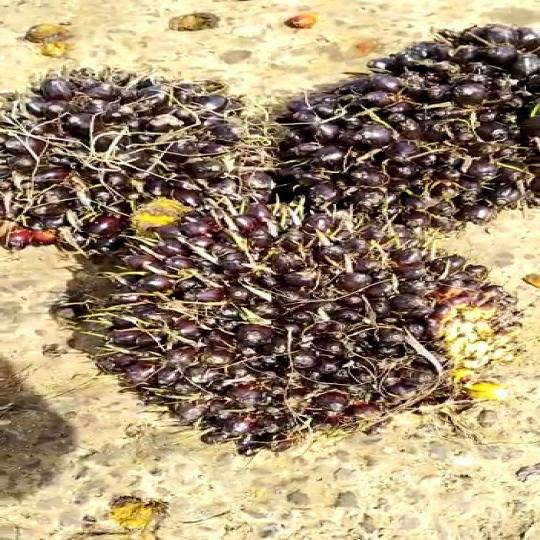mentah: (91, 170, 508, 452), (288, 0, 539, 241), (0, 53, 268, 260)
